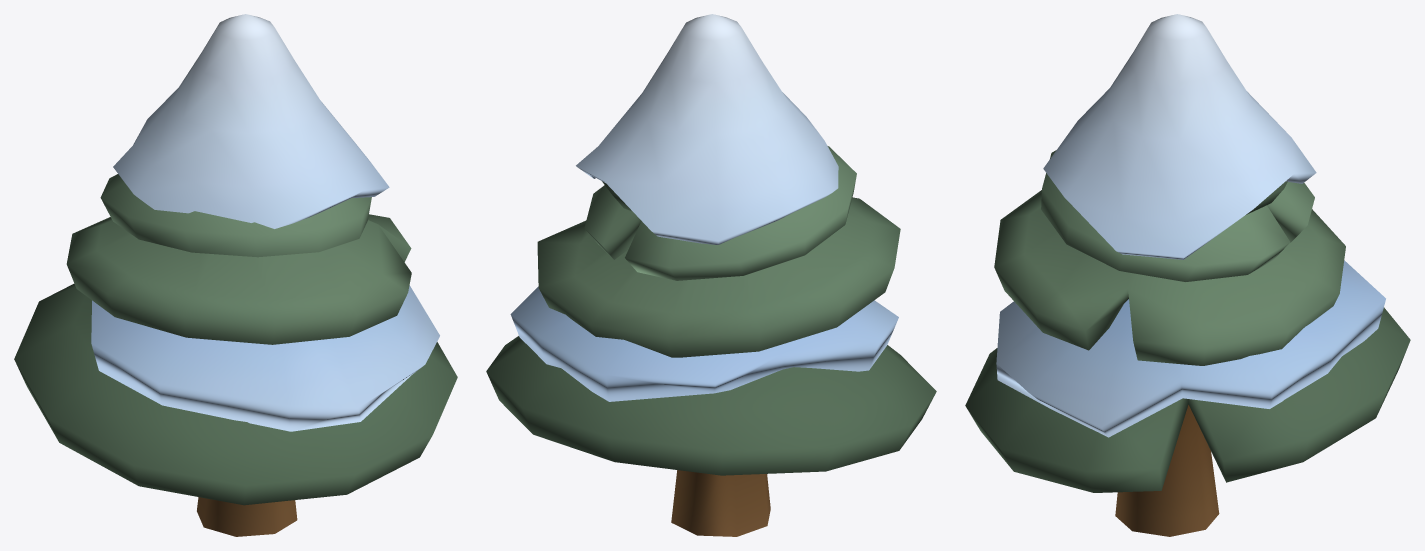
The model's file is Pine_Tree_Back.fbx.
The picture shows the model from 3 angles, left to right: view 1: azimuth 30°, elevation 25°; view 2: azimuth 150°, elevation 25°; view 3: azimuth 270°, elevation 25°; orthographic projection.
Parts seen in each view (by area): view 1: Pine_Tree_Back; view 2: Pine_Tree_Back; view 3: Pine_Tree_Back.
Part boxes in pixels (<box>): Pine_Tree_Back: <box>14,14,457,536</box>; Pine_Tree_Back: <box>486,14,936,536</box>; Pine_Tree_Back: <box>965,14,1410,536</box>.
Size of the model in its own units: 555 by 697 by 559.
1 material, 1 textured.
